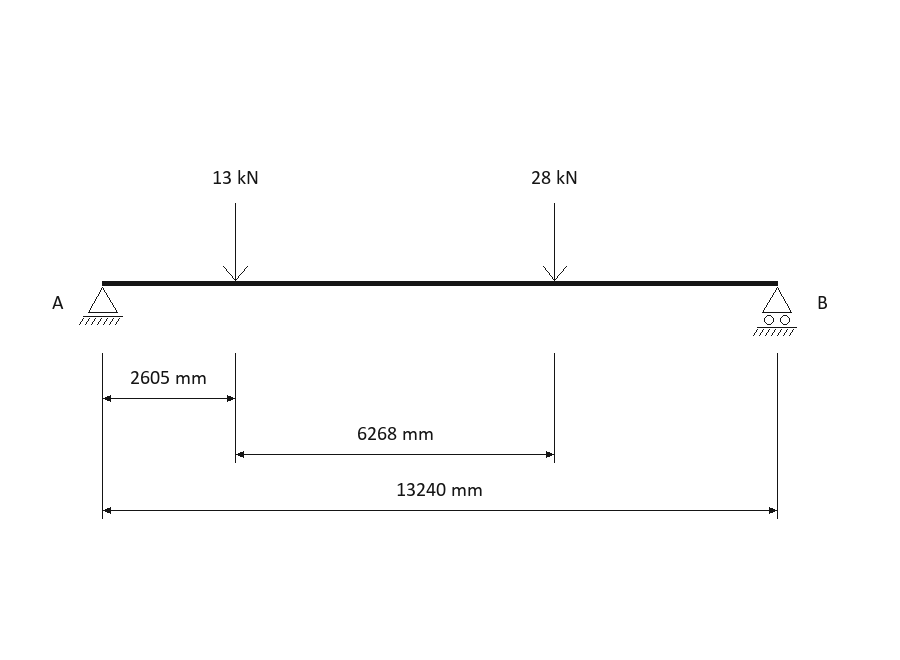pin_support: (79, 287, 123, 325)
point_load: (223, 203, 248, 281), (543, 203, 567, 281)
roller_support: (753, 287, 797, 336)
